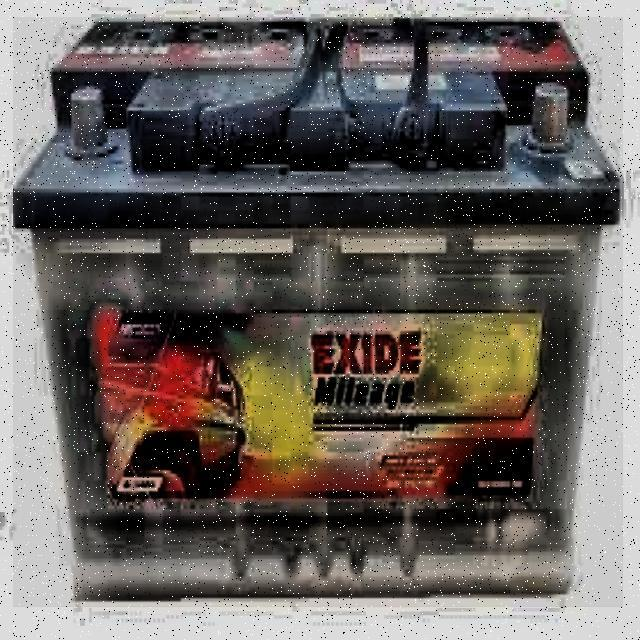B3: (13, 13, 611, 623)
